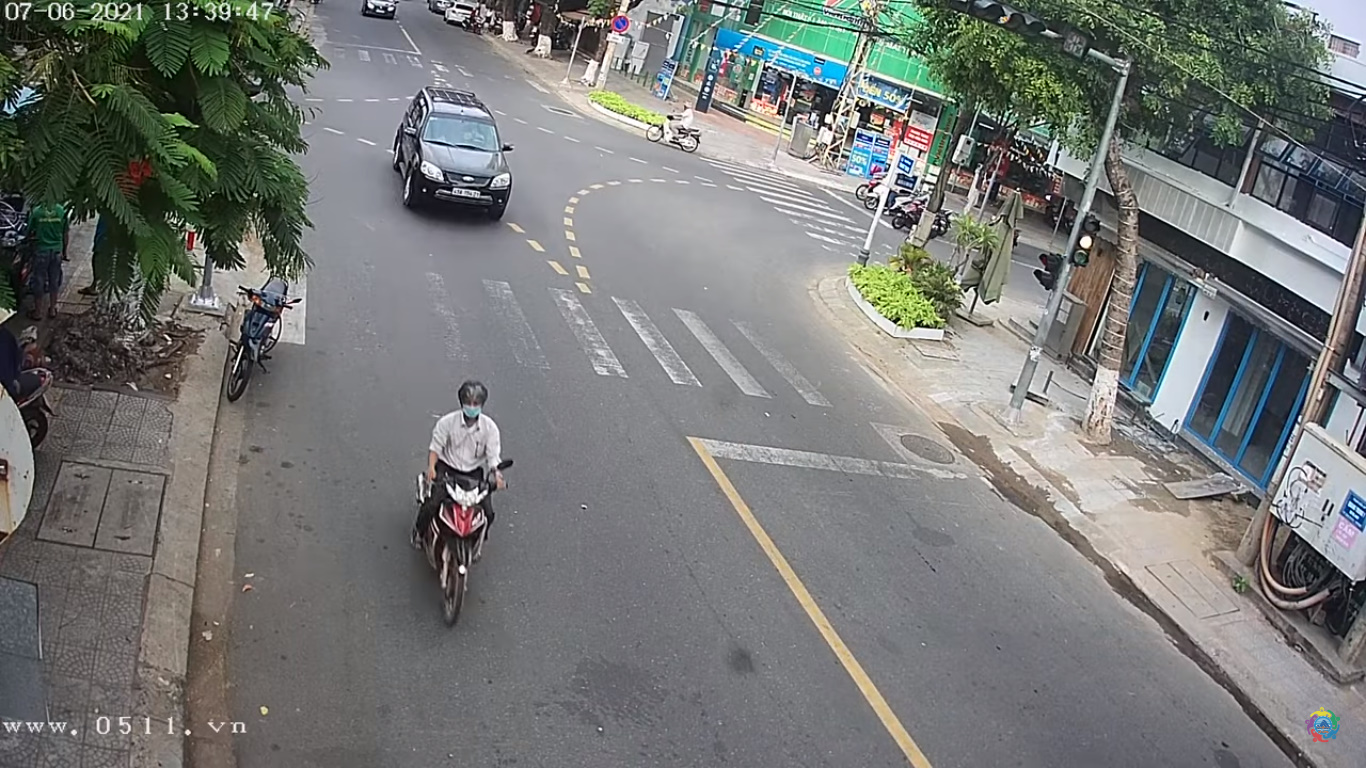car: (390, 90, 522, 218)
